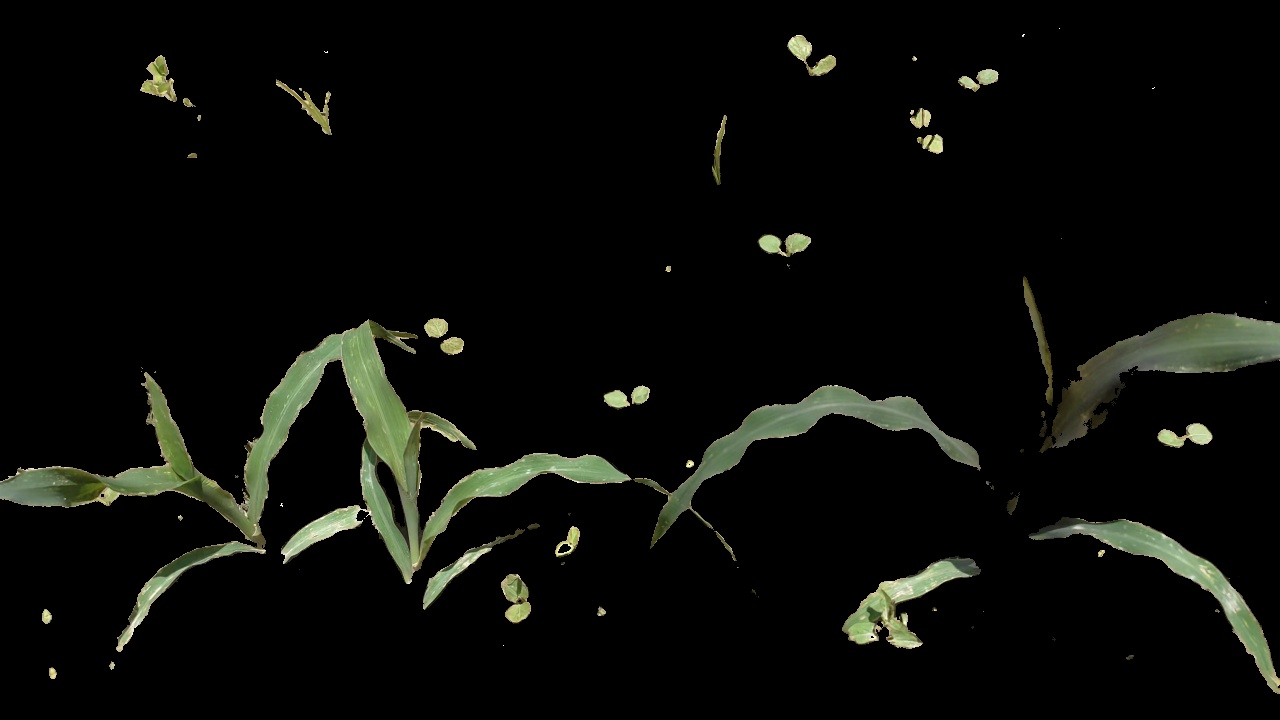crop: (799, 230, 1233, 701), (324, 320, 741, 621), (8, 311, 324, 642)
weed: (264, 74, 347, 137), (1147, 404, 1230, 462), (137, 49, 198, 119), (770, 23, 837, 82), (704, 95, 741, 193), (499, 556, 535, 630), (898, 114, 956, 158), (950, 52, 1004, 94), (753, 226, 814, 263), (420, 313, 469, 356), (598, 381, 659, 414)
